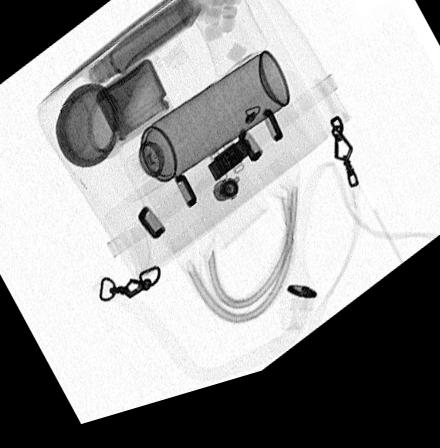Sprayer: (107, 67, 289, 208)
